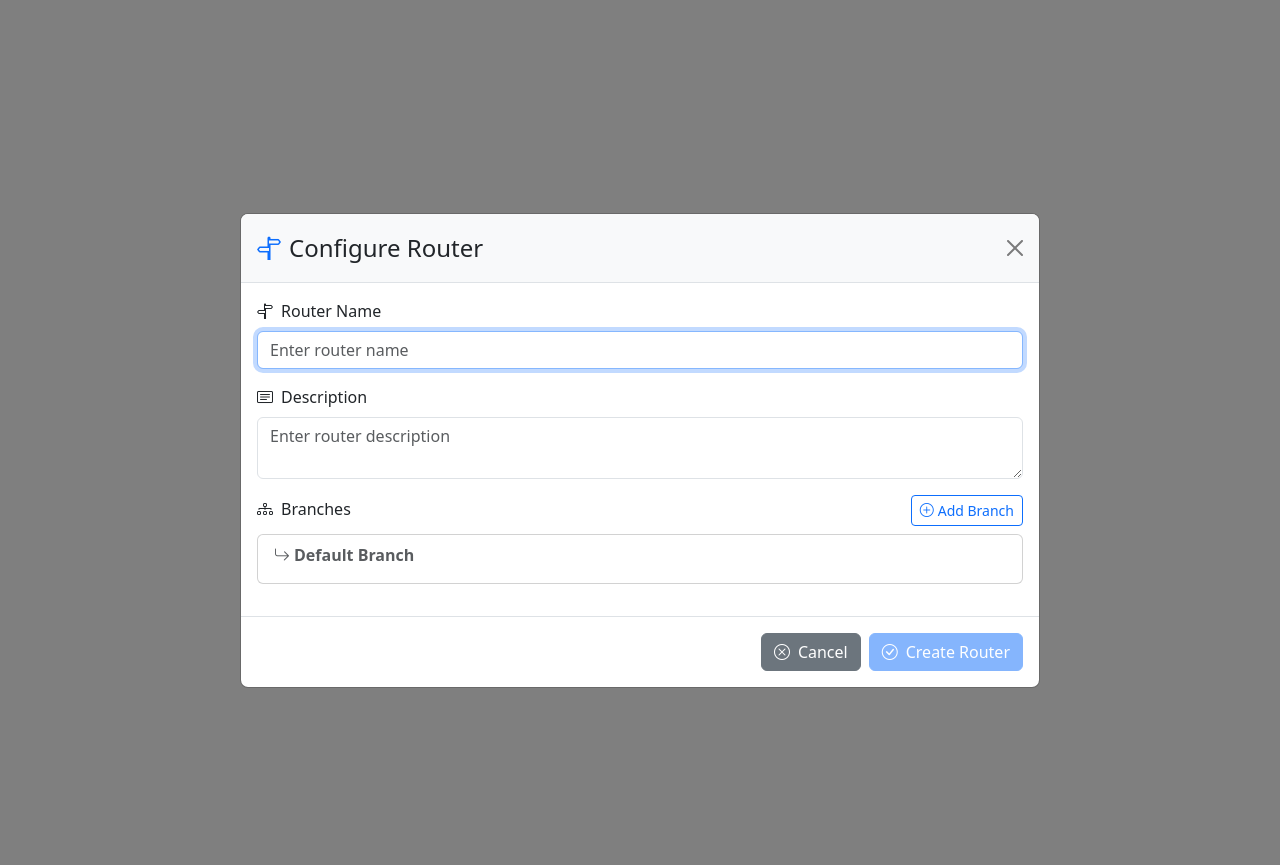
it: RouterConfigModal › adds new branch when add button clicked
Click the button "Add Branch" at (967, 510), box [911,494,1023,526]
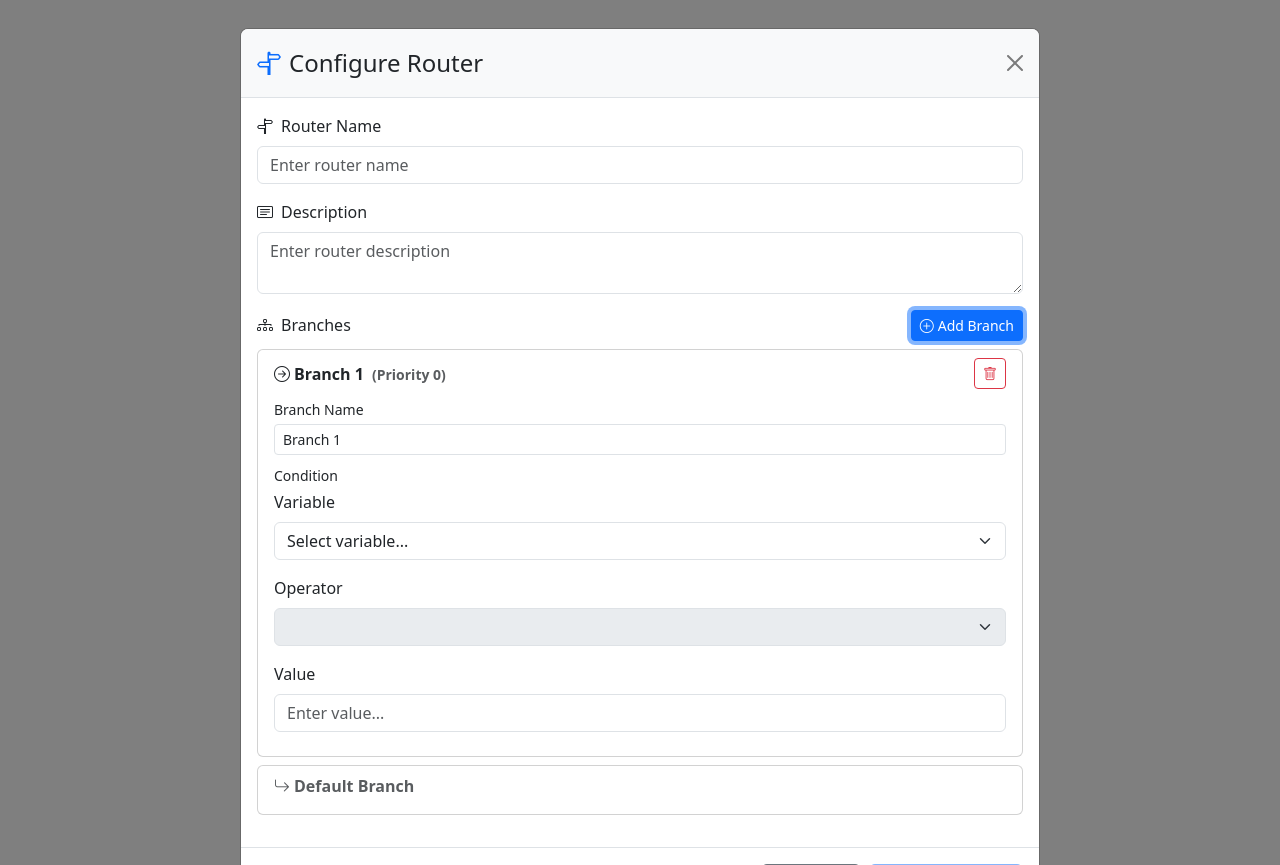
Expected: the text "Branch 1(Priority 0)" is shown, [274,362,446,384]
